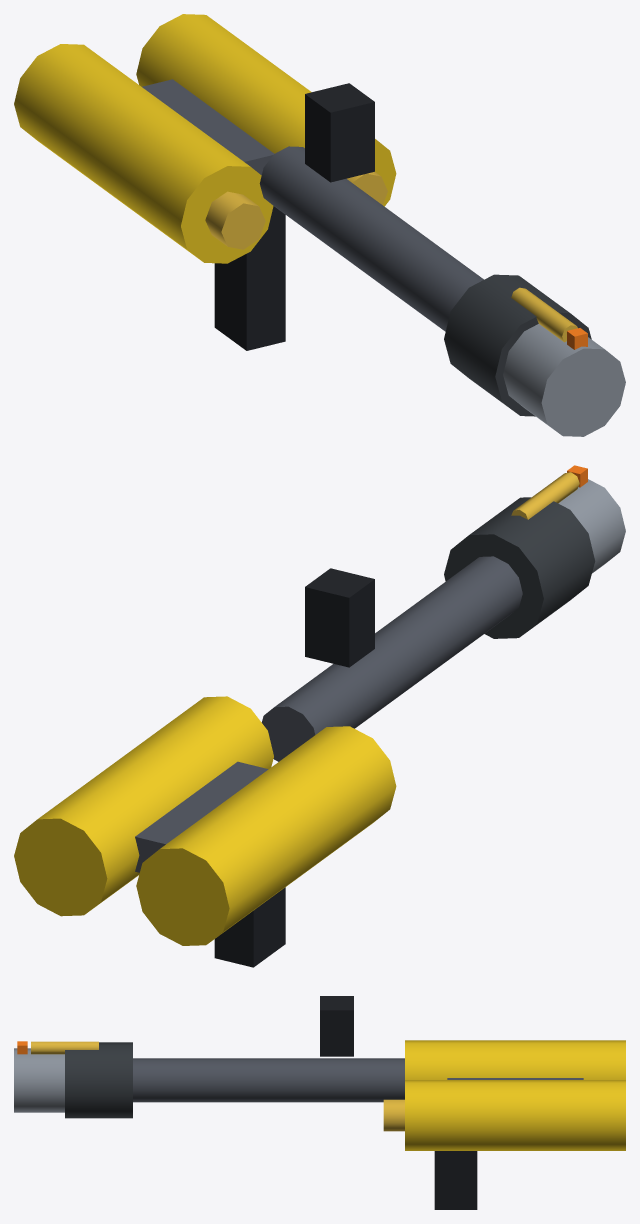
The model's file is flamethrower_3d.obj.
3 views of the same model, one above another, from view 1: azimuth 30°, elevation 25°; view 2: azimuth 150°, elevation 25°; view 3: azimuth 270°, elevation 25° (orthographic). The views are drawn at different scales.
Size of the model in its own units: 0.194 by 0.26 by 0.72.
